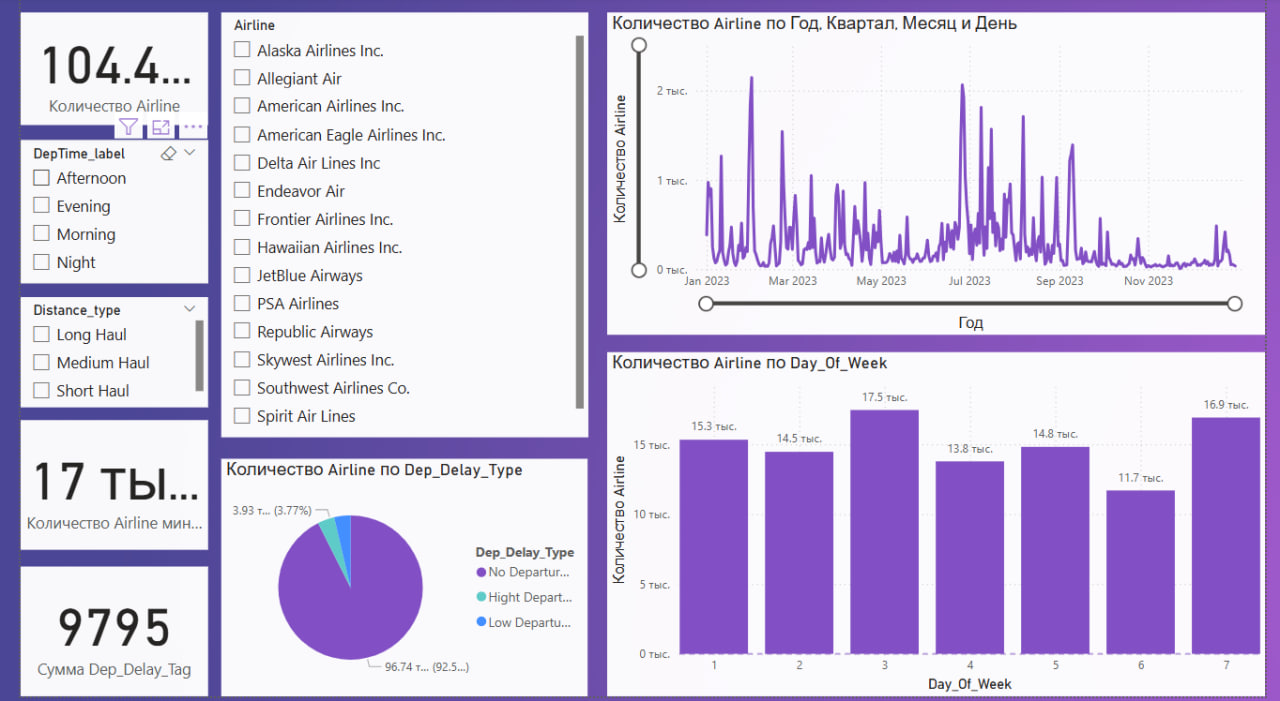

The dashboard page shown, as its layout file describes it:
{"tool":"powerbi","page":{"name":"Страница 1","canvas":[1280,720],"ordinal":0},"visuals":[{"type":"card","fields":{"Values":["CountNonNull(Cancelled_Diverted_2023_1.Airline)"]},"box":[0,15.7,193,115.8],"z":0},{"type":"columnChart","fields":{"Y":["CountNonNull(Cancelled_Diverted_2023_1.Airline)"],"Category":["Cancelled_Diverted_2023_1.Day_Of_Week"]},"box":[603.2,365.6,676.8,354.7],"z":1000},{"type":"lineChart","fields":{"Y":["CountNonNull(Cancelled_Diverted_2023_1.Airline)"],"Category":["Cancelled_Diverted_2023_1.FlightDate.Изменение.Иерархия дат.Год","Cancelled_Diverted_2023_1.FlightDate.Изменение.Иерархия дат.Квартал","Cancelled_Diverted_2023_1.FlightDate.Изменение.Иерархия дат.Месяц","Cancelled_Diverted_2023_1.FlightDate.Изменение.Иерархия дат.День"]},"box":[603.2,15.7,676.8,331.8],"z":2000},{"type":"slicer","fields":{"Values":["Cancelled_Diverted_2023_1.DepTime_label"]},"box":[0,147.2,193,147.2],"z":3000},{"type":"slicer","fields":{"Values":["Cancelled_Diverted_2023_1.Distance_type"]},"box":[0,308.8,193,113.4],"z":4000},{"type":"card","fields":{"Values":["Cancelled_Diverted_2023_1.Количество Airline минус Cancelled"]},"box":[0,435.5,193,133.9],"z":5000},{"type":"slicer","fields":{"Values":["Cancelled_Diverted_2023_1.Airline"]},"box":[206.3,15.7,377.6,437.9],"z":6000},{"type":"pieChart","fields":{"Y":["CountNonNull(Cancelled_Diverted_2023_1.Airline)"],"Category":["Cancelled_Diverted_2023_1.Dep_Delay_Type"]},"box":[206.3,475.3,376.4,244.9],"z":7000},{"type":"card","fields":{"Values":["Sum(Cancelled_Diverted_2023_1.Dep_Delay_Tag)"]},"box":[0,586.3,193,133.9],"z":8000}]}

Visuals, with their boxes in screenshot pixels (x1, y1, x2, y2), scaled from the page's 1280x720 canvas onto the 1280x701 screenshot:
card - CountNonNull(Cancelled_Diverted_2023_1.Airline): [left=0, top=15, right=193, bottom=128]
columnChart - CountNonNull(Cancelled_Diverted_2023_1.Airline) x Cancelled_Diverted_2023_1.Day_Of_Week: [left=603, top=356, right=1279, bottom=700]
lineChart - CountNonNull(Cancelled_Diverted_2023_1.Airline) x Cancelled_Diverted_2023_1.FlightDate.Изменение.Иерархия дат.Год: [left=603, top=15, right=1279, bottom=338]
slicer - Cancelled_Diverted_2023_1.DepTime_label: [left=0, top=143, right=193, bottom=287]
slicer - Cancelled_Diverted_2023_1.Distance_type: [left=0, top=301, right=193, bottom=411]
card - Cancelled_Diverted_2023_1.Количество Airline минус Cancelled: [left=0, top=424, right=193, bottom=554]
slicer - Cancelled_Diverted_2023_1.Airline: [left=206, top=15, right=584, bottom=442]
pieChart - CountNonNull(Cancelled_Diverted_2023_1.Airline) x Cancelled_Diverted_2023_1.Dep_Delay_Type: [left=206, top=463, right=583, bottom=700]
card - Sum(Cancelled_Diverted_2023_1.Dep_Delay_Tag): [left=0, top=571, right=193, bottom=700]
